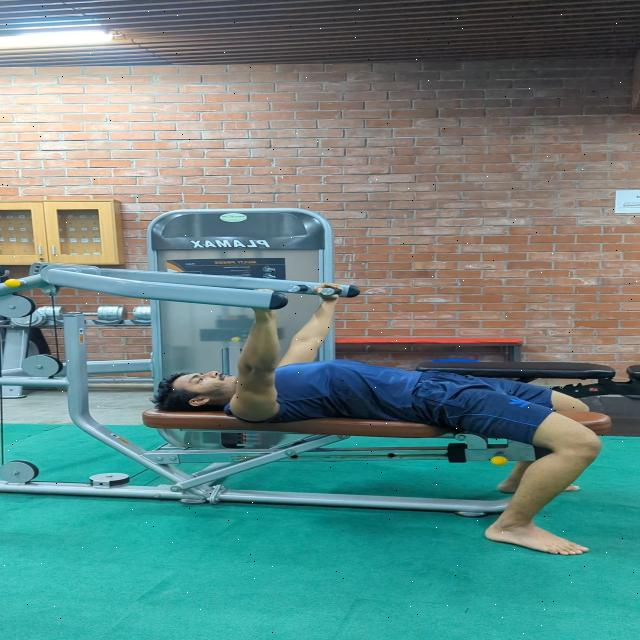Normal_BrenchPress: (85, 274, 616, 558)
